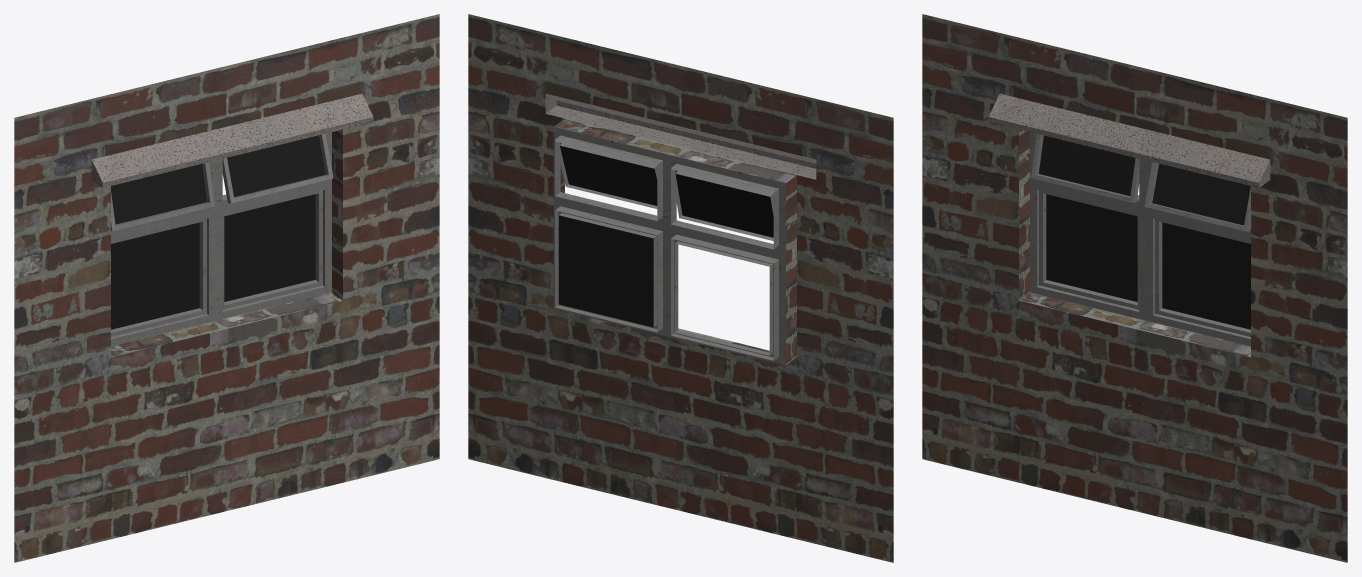
Rendered from window_002_002_19.gltf.
3 views of the same model, side by side, from view 1: azimuth 30°, elevation 25°; view 2: azimuth 150°, elevation 25°; view 3: azimuth 330°, elevation 25° (orthographic).
Visible parts, largest first — view 1: Window_002.002_19; view 2: Window_002.002_19; view 3: Window_002.002_19.
Part boxes in pixels (x1,y1,x2,y2): Window_002.002_19: (14,14,439,562); Window_002.002_19: (468,14,893,562); Window_002.002_19: (922,14,1347,562).
Bounding box in the file's own units: 2.2 × 2.2 × 0.25.
4 materials, 3 textured.
